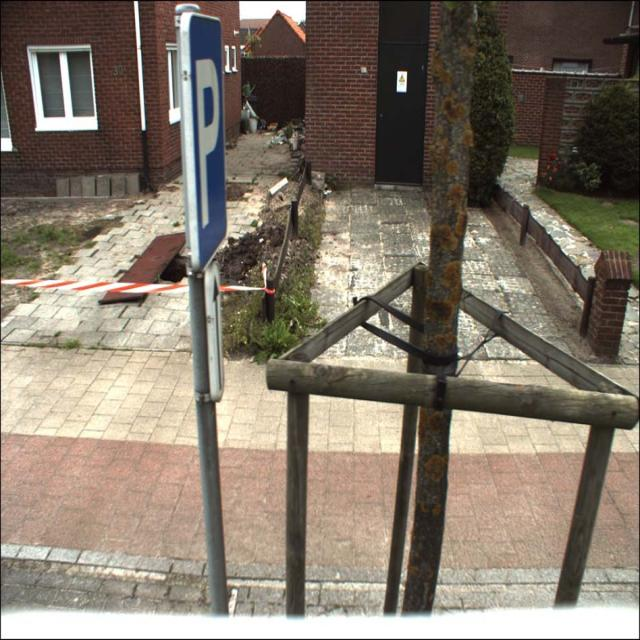park: (184, 14, 236, 268)
